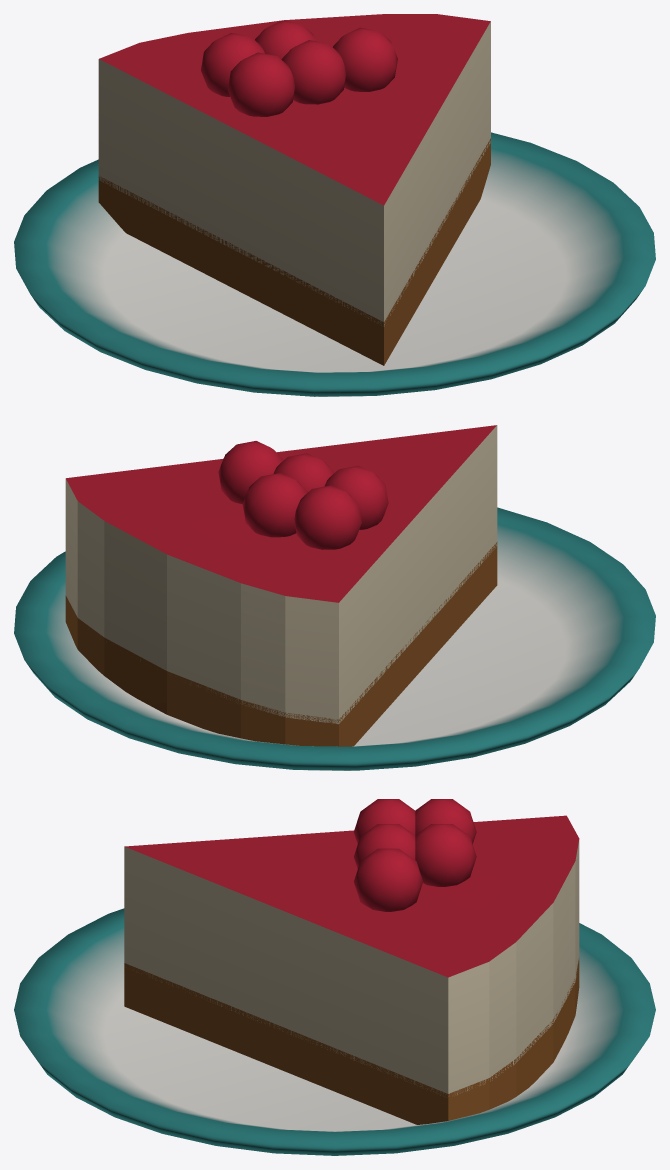
Rendered from item_dish_cherry_cheesecake.glb.
The picture shows the model from 3 angles, top to bottom: view 1: azimuth 30°, elevation 25°; view 2: azimuth 150°, elevation 25°; view 3: azimuth 270°, elevation 25°; orthographic projection.
Visible parts, largest first — view 1: item_dish_cherry_cheesecake_main, item_dish_cherry_cheesecake_gloss; view 2: item_dish_cherry_cheesecake_main, item_dish_cherry_cheesecake_gloss; view 3: item_dish_cherry_cheesecake_main, item_dish_cherry_cheesecake_gloss.
Part boxes in pixels (x1=…): item_dish_cherry_cheesecake_main: x1=14, y1=14, x2=655, y2=396; item_dish_cherry_cheesecake_gloss: x1=201, y1=20, x2=397, y2=116; item_dish_cherry_cheesecake_main: x1=14, y1=425, x2=655, y2=770; item_dish_cherry_cheesecake_gloss: x1=218, y1=441, x2=388, y2=549; item_dish_cherry_cheesecake_main: x1=14, y1=815, x2=655, y2=1155; item_dish_cherry_cheesecake_gloss: x1=353, y1=799, x2=476, y2=911.
Size of the model in its own units: 0.24 by 0.097 by 0.24.
